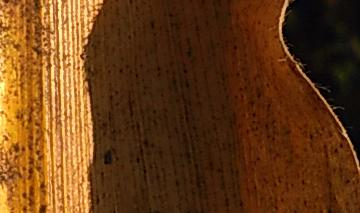tarspot: (126, 89, 136, 117), (102, 147, 114, 166), (31, 43, 43, 60), (185, 37, 194, 58), (26, 106, 35, 125), (99, 170, 107, 187), (37, 202, 49, 213), (26, 166, 34, 181), (11, 142, 21, 154), (27, 184, 35, 197), (26, 196, 35, 207), (142, 135, 149, 149), (182, 77, 190, 89), (332, 146, 341, 156), (160, 105, 170, 114), (34, 163, 43, 173), (1, 133, 10, 143), (32, 1, 41, 11), (35, 154, 46, 162), (94, 193, 101, 205), (20, 191, 29, 200), (26, 156, 35, 165), (324, 204, 333, 213), (148, 18, 155, 29), (134, 155, 141, 166), (26, 143, 34, 152), (237, 199, 244, 209), (181, 65, 188, 75), (126, 33, 134, 41), (38, 181, 46, 189), (264, 80, 270, 90), (141, 84, 151, 90), (344, 178, 352, 185), (254, 91, 262, 98), (307, 132, 314, 140), (150, 107, 157, 115), (157, 91, 165, 98), (154, 63, 161, 71), (155, 71, 163, 78), (190, 124, 198, 131), (20, 145, 26, 154), (33, 121, 42, 127), (133, 71, 139, 80), (231, 44, 238, 51), (112, 89, 119, 96), (234, 70, 241, 77), (21, 205, 27, 213), (35, 148, 41, 156), (78, 52, 84, 60), (106, 67, 112, 75), (137, 61, 143, 69), (254, 155, 261, 161), (250, 111, 256, 118), (337, 142, 344, 148), (117, 66, 123, 73), (113, 101, 120, 107), (1, 1, 11, 5), (107, 94, 113, 100)
